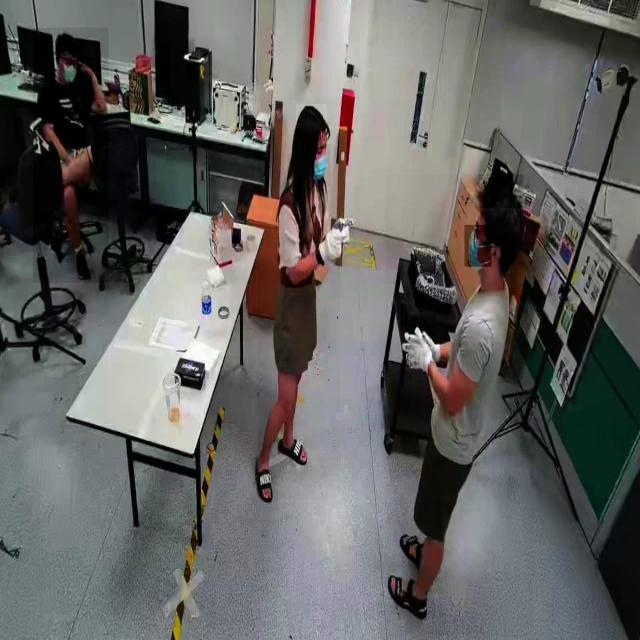face_mask: (464, 225, 492, 267), (312, 144, 330, 187), (61, 58, 79, 88)
hand_glove: (404, 330, 444, 370), (318, 227, 344, 271)
hand_noglove: (77, 57, 94, 78)
head_nohelmet: (478, 174, 524, 209), (296, 104, 328, 131), (54, 32, 78, 52)
person: (385, 175, 535, 638), (258, 97, 340, 500), (33, 28, 109, 284)
shoes: (71, 237, 91, 281)
